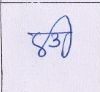i_matra: (59, 15, 76, 59)
